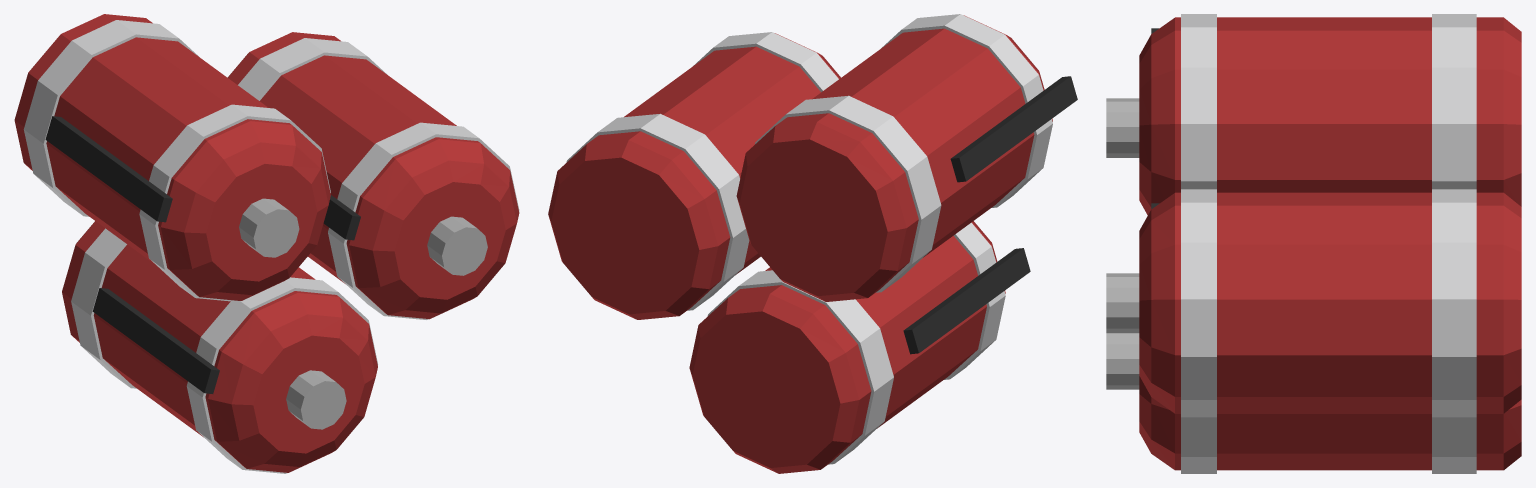
Rendered from ce_handgren_firefoam_b.obj.
3 renders of one model, left to right at view 1: azimuth 30°, elevation 25°; view 2: azimuth 150°, elevation 25°; view 3: azimuth 270°, elevation 25°, orthographic. The views are drawn at different scales.
Parts seen in each view (by area): view 1: ce_handgren_firefoam_b_g0_body, ce_handgren_firefoam_b_g1_body, ce_handgren_firefoam_b_g2_body, ce_handgren_firefoam_b_g0_band1, ce_handgren_firefoam_b_g1_band0, ce_handgren_firefoam_b_g0_band0, ce_handgren_firefoam_b_g2_band0, ce_handgren_firefoam_b_g0_spoon, ce_handgren_firefoam_b_g2_spoon, ce_handgren_firefoam_b_g2_band1, ce_handgren_firefoam_b_g1_band1, ce_handgren_firefoam_b_g2_fuze (+3 smaller); view 2: ce_handgren_firefoam_b_g0_body, ce_handgren_firefoam_b_g1_body, ce_handgren_firefoam_b_g2_body, ce_handgren_firefoam_b_g0_band1, ce_handgren_firefoam_b_g1_band1, ce_handgren_firefoam_b_g2_band1, ce_handgren_firefoam_b_g0_band0, ce_handgren_firefoam_b_g2_spoon, ce_handgren_firefoam_b_g0_spoon, ce_handgren_firefoam_b_g1_band0, ce_handgren_firefoam_b_g2_band0; view 3: ce_handgren_firefoam_b_g1_body, ce_handgren_firefoam_b_g0_body, ce_handgren_firefoam_b_g2_body, ce_handgren_firefoam_b_g1_band1, ce_handgren_firefoam_b_g1_band0, ce_handgren_firefoam_b_g0_band1, ce_handgren_firefoam_b_g0_band0, ce_handgren_firefoam_b_g2_band1, ce_handgren_firefoam_b_g2_band0, ce_handgren_firefoam_b_g0_fuze, ce_handgren_firefoam_b_g1_fuze, ce_handgren_firefoam_b_g2_fuze.
Boxes of the visible parts, bbox=[...] form: ce_handgren_firefoam_b_g0_body: bbox=[14, 14, 330, 300]; ce_handgren_firefoam_b_g1_body: bbox=[227, 32, 519, 319]; ce_handgren_firefoam_b_g2_body: bbox=[62, 221, 377, 472]; ce_handgren_firefoam_b_g0_band1: bbox=[23, 20, 198, 216]; ce_handgren_firefoam_b_g1_band0: bbox=[328, 122, 519, 319]; ce_handgren_firefoam_b_g0_band0: bbox=[139, 104, 330, 301]; ce_handgren_firefoam_b_g2_band0: bbox=[186, 277, 377, 473]; ce_handgren_firefoam_b_g0_spoon: bbox=[45, 116, 172, 222]; ce_handgren_firefoam_b_g2_spoon: bbox=[92, 288, 219, 393]; ce_handgren_firefoam_b_g2_band1: bbox=[71, 228, 136, 388]; ce_handgren_firefoam_b_g1_band1: bbox=[238, 38, 387, 100]; ce_handgren_firefoam_b_g2_fuze: bbox=[286, 370, 346, 429]; ce_handgren_firefoam_b_g0_body: bbox=[736, 15, 1052, 301]; ce_handgren_firefoam_b_g1_body: bbox=[548, 33, 840, 319]; ce_handgren_firefoam_b_g2_body: bbox=[689, 221, 1005, 473]; ce_handgren_firefoam_b_g0_band1: bbox=[755, 95, 941, 292]; ce_handgren_firefoam_b_g1_band1: bbox=[566, 113, 749, 310]; ce_handgren_firefoam_b_g2_band1: bbox=[707, 270, 893, 464]; ce_handgren_firefoam_b_g0_band0: bbox=[881, 14, 1052, 207]; ce_handgren_firefoam_b_g2_spoon: bbox=[903, 248, 1030, 354]; ce_handgren_firefoam_b_g0_spoon: bbox=[950, 76, 1077, 182]; ce_handgren_firefoam_b_g1_band0: bbox=[693, 32, 838, 92]; ce_handgren_firefoam_b_g2_band0: bbox=[944, 222, 1005, 379]; ce_handgren_firefoam_b_g1_body: bbox=[1139, 192, 1521, 413]; ce_handgren_firefoam_b_g0_body: bbox=[1139, 17, 1521, 215]; ce_handgren_firefoam_b_g2_body: bbox=[1139, 376, 1521, 470]; ce_handgren_firefoam_b_g1_band1: bbox=[1432, 189, 1476, 417]; ce_handgren_firefoam_b_g1_band0: bbox=[1181, 189, 1216, 417]; ce_handgren_firefoam_b_g0_band1: bbox=[1432, 14, 1476, 189]; ce_handgren_firefoam_b_g0_band0: bbox=[1181, 14, 1216, 189]; ce_handgren_firefoam_b_g2_band1: bbox=[1432, 417, 1476, 473]; ce_handgren_firefoam_b_g2_band0: bbox=[1181, 417, 1216, 473]; ce_handgren_firefoam_b_g0_fuze: bbox=[1106, 98, 1139, 157]; ce_handgren_firefoam_b_g1_fuze: bbox=[1106, 273, 1139, 332]; ce_handgren_firefoam_b_g2_fuze: bbox=[1106, 333, 1139, 389].
Size of the model in its own units: 0.2039 by 0.1904 by 0.1738.
